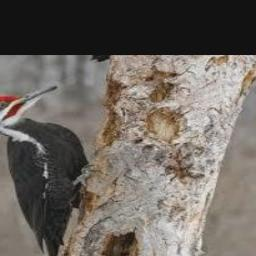Woodpecker: (0, 84, 90, 256)
